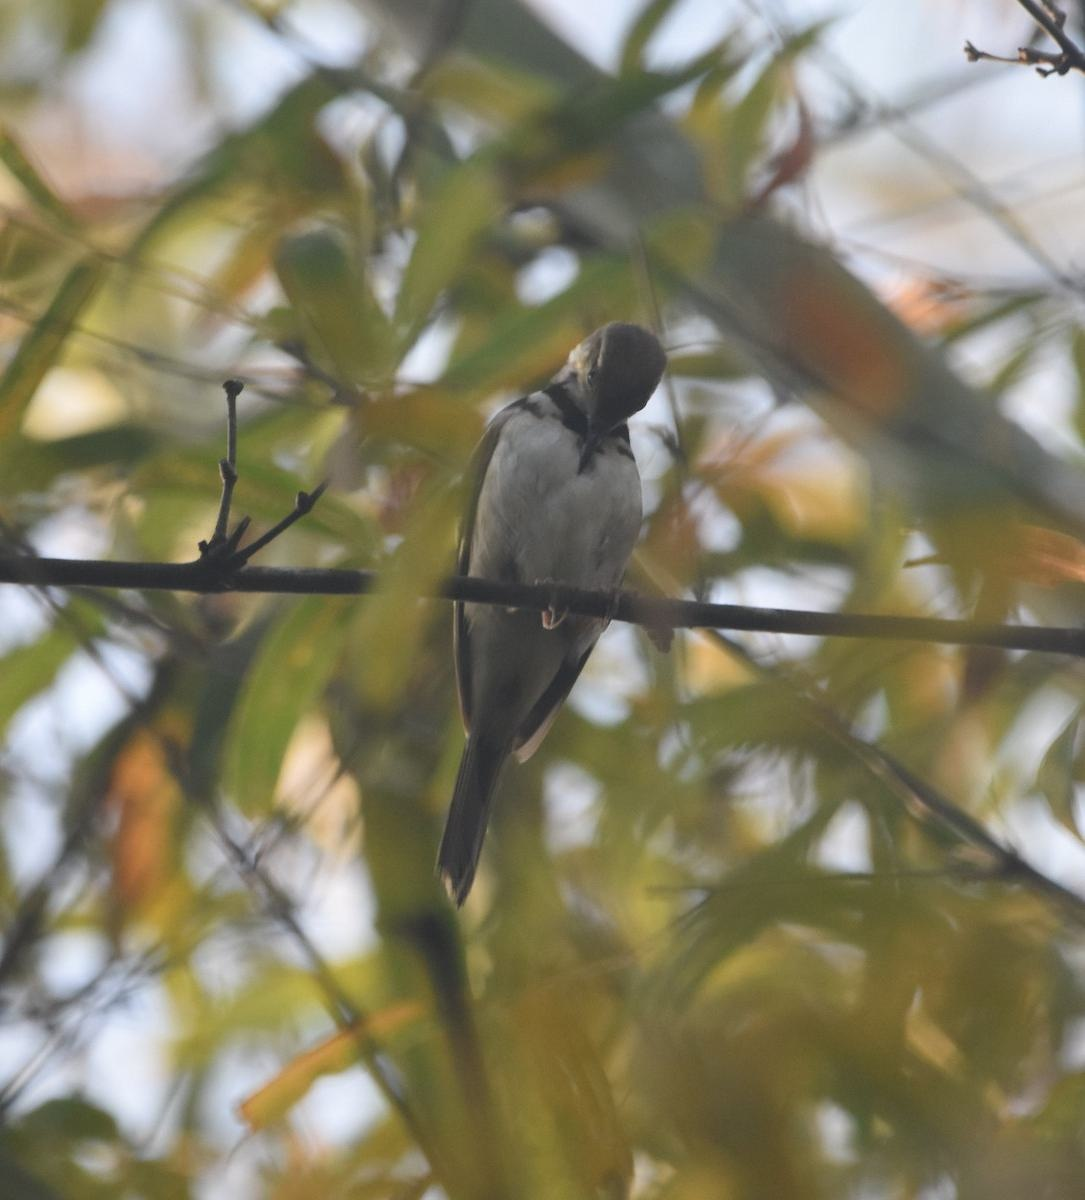wagtail: (408, 318, 662, 847)
